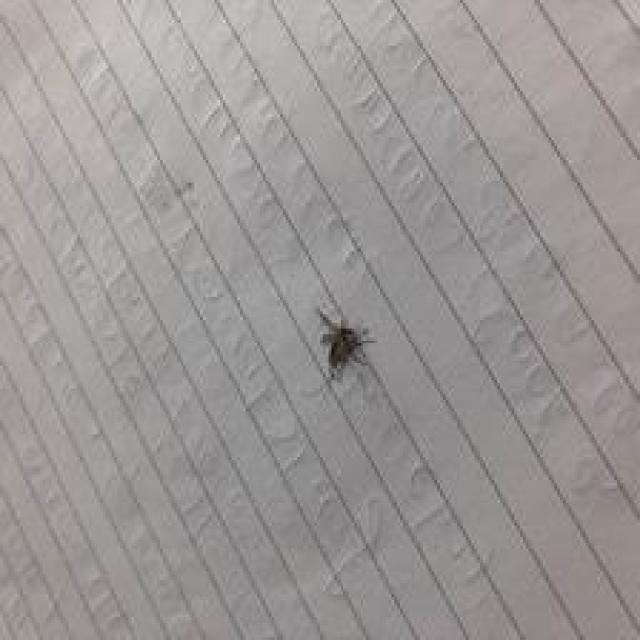Culex: (316, 306, 376, 380)
